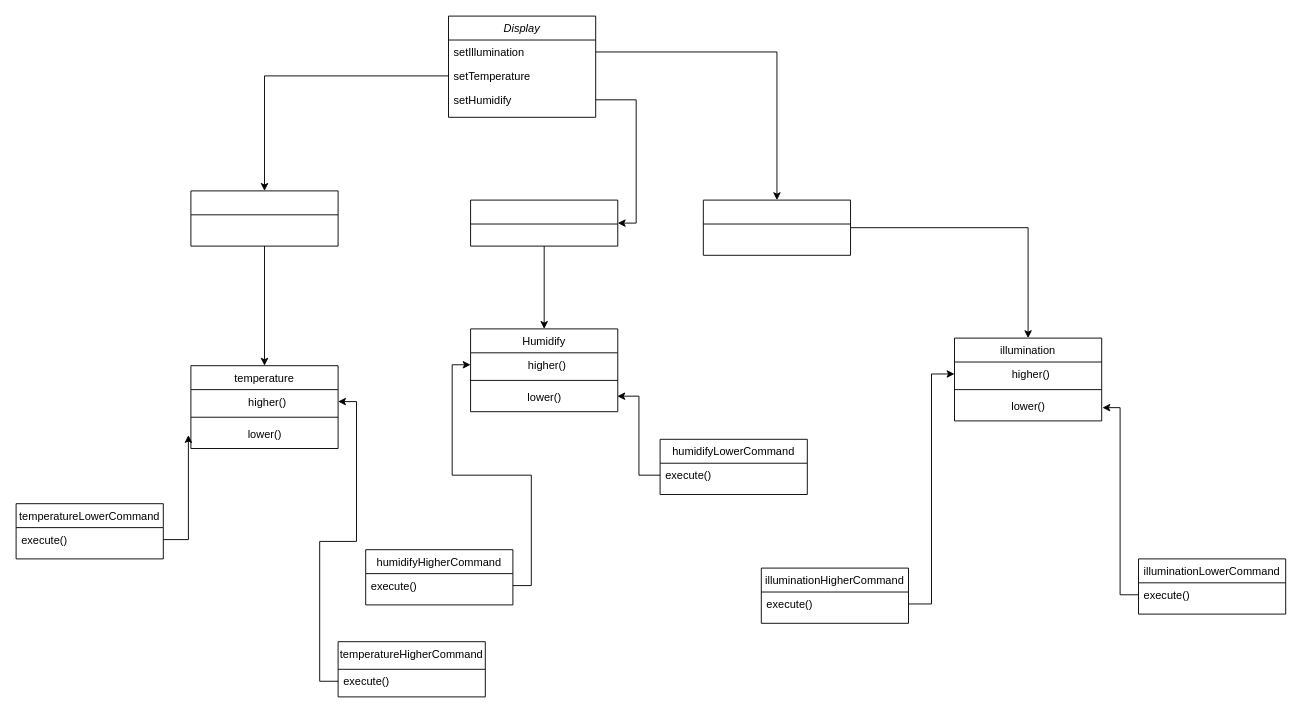
Some shapes in this 1302 by 713 pixel diagram are drawn without their labels. Each missing label, with the centre of its shape:
AirHumidifier: point (544, 222)
Luxmeter: point (776, 227)
Сonditioner: point (264, 218)
